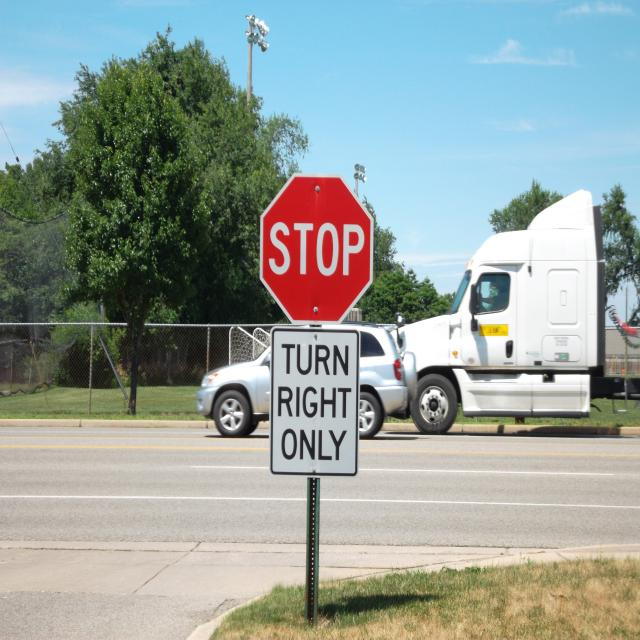regulatory: (270, 332, 363, 474)
stop: (255, 174, 377, 327)
